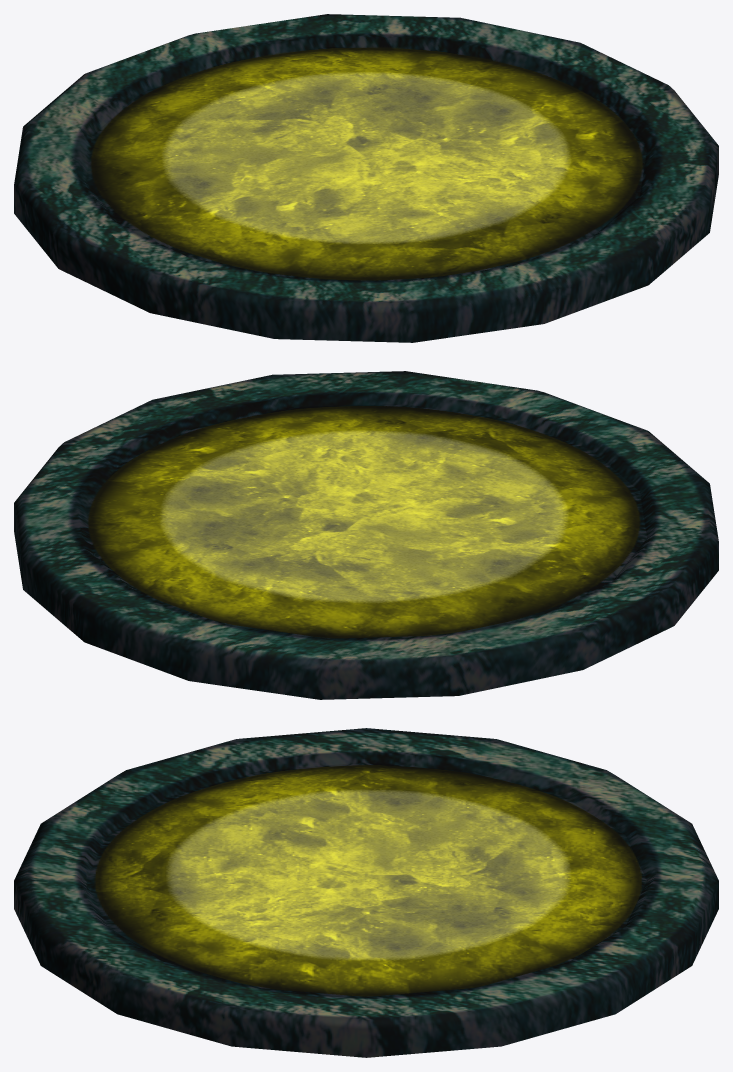
File: object_mass_big_04yellow.fbx
3 renders of one model, top to bottom at view 1: azimuth 30°, elevation 25°; view 2: azimuth 150°, elevation 25°; view 3: azimuth 270°, elevation 25°, orthographic.
Visible parts, largest first — view 1: pCylinder1; view 2: pCylinder1; view 3: pCylinder1.
Boxes of the visible parts, left/top/right/bottom form: pCylinder1: left=14, top=14, right=718, bottom=342; pCylinder1: left=14, top=371, right=718, bottom=699; pCylinder1: left=14, top=728, right=718, bottom=1057.
Bounding box in the file's own units: 2 × 0.108 × 2.
